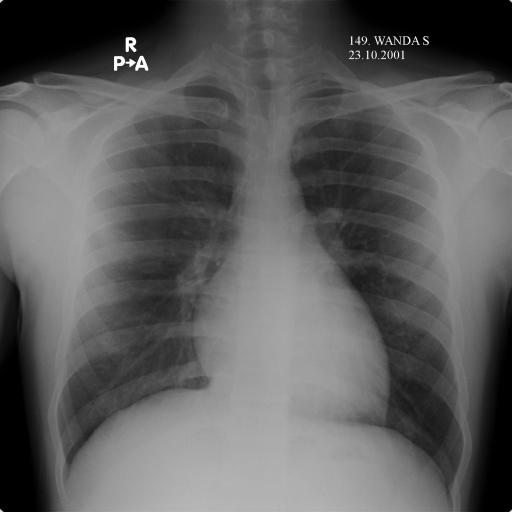normal: (46, 47, 470, 508)
